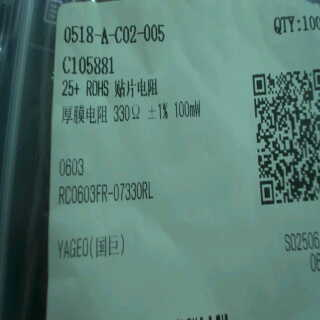330R: (111, 102, 145, 127)
